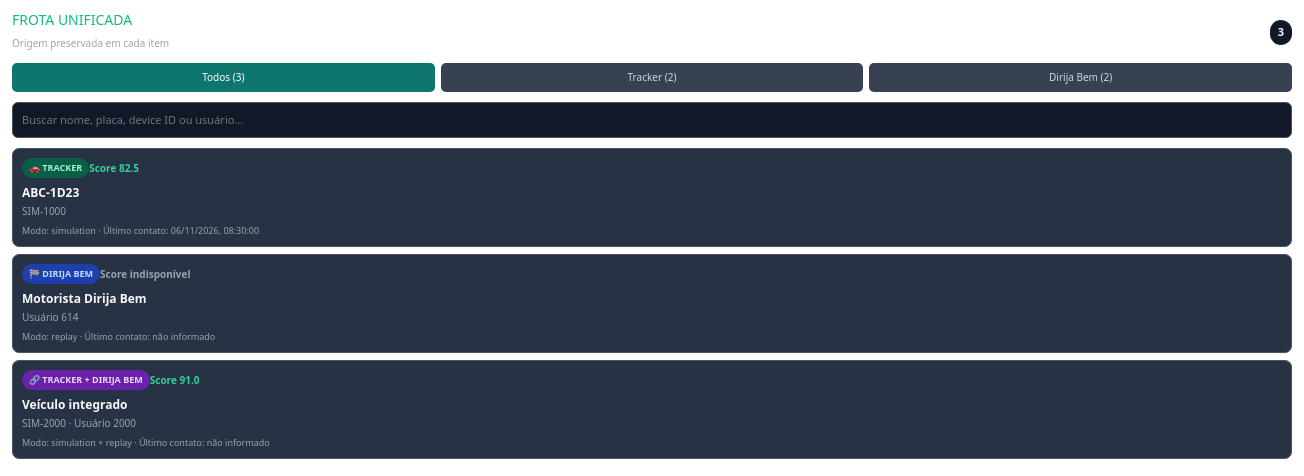
Test: filtra por fonte sem perder a opção de visão conjunta
This screenshot has width=1304, height=476.
Click the button "Tracker (2)": coordinates (652, 77) [441,63,863,92]
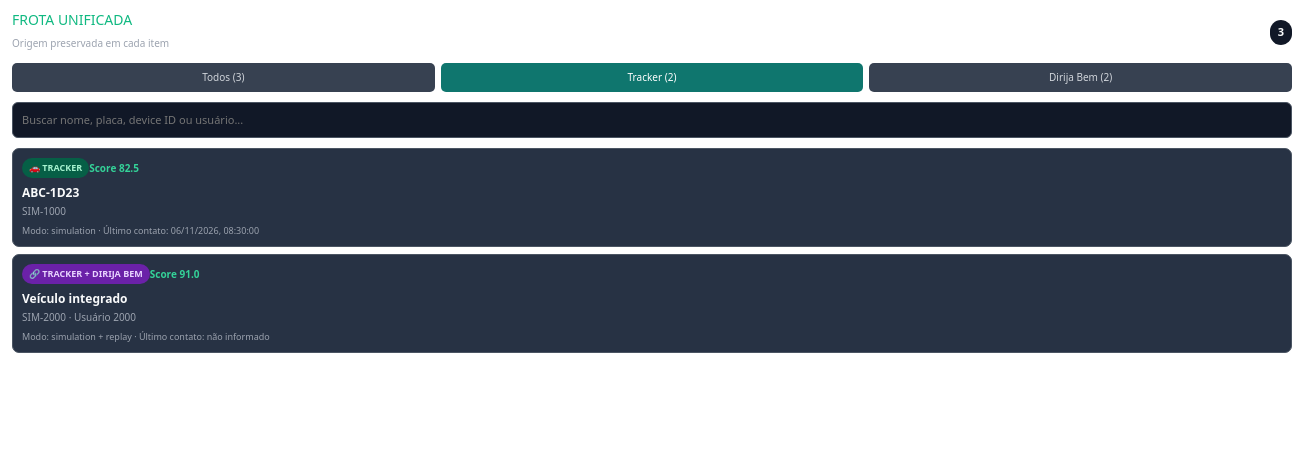
Expected: the text "ABC-1D23" is shown, [22,184,79,202]
Result: the button "Motorista Dirija Bem" is gone
Click the button "Todos (3)": coordinates (223, 77) [12,63,435,92]
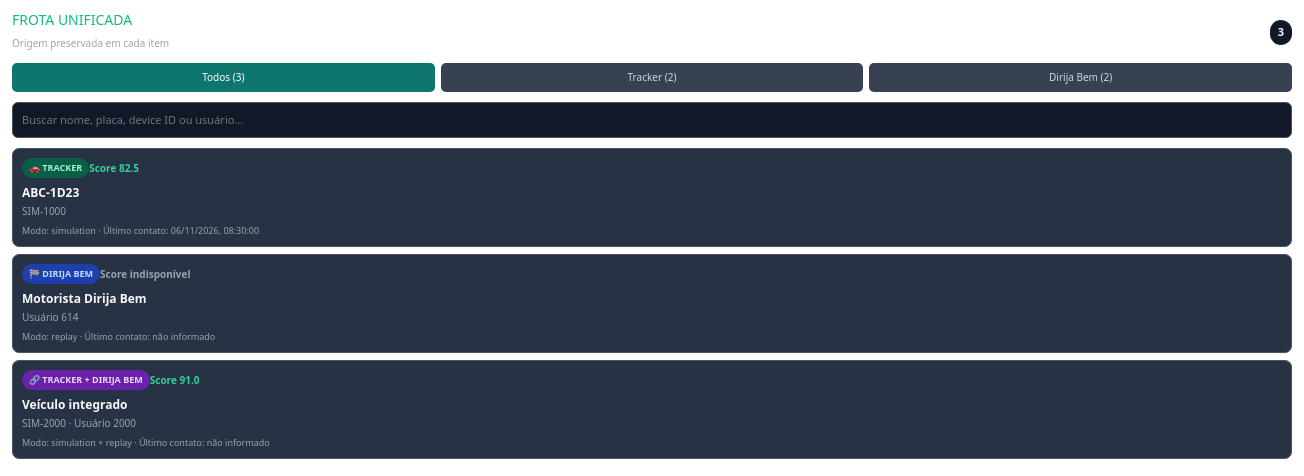
Result: the text "Motorista Dirija Bem" is shown at [22,290,147,308]
